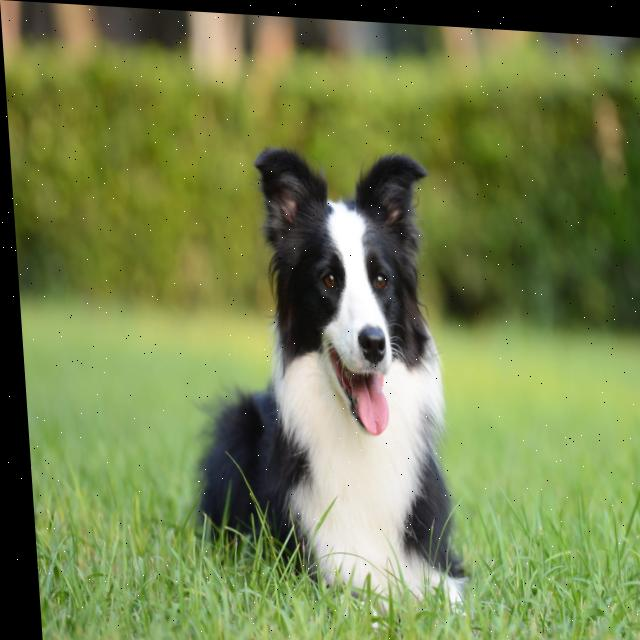BORDER_COLLIE: (161, 139, 483, 612)
